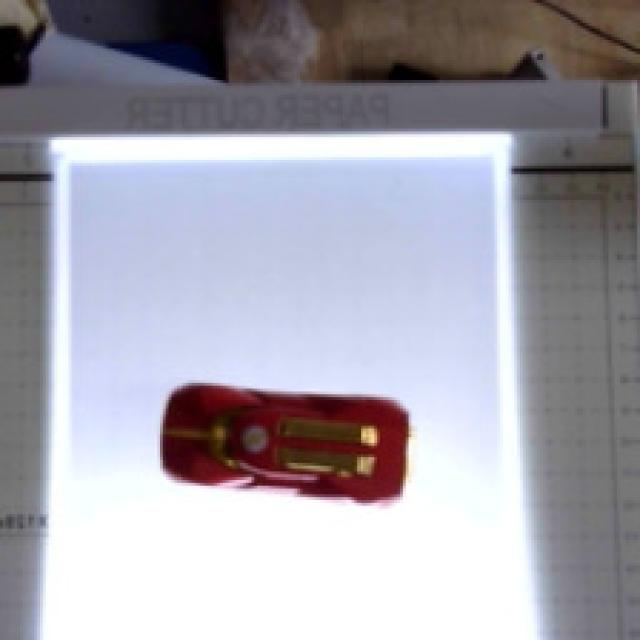Red Car: (139, 340, 443, 522)
